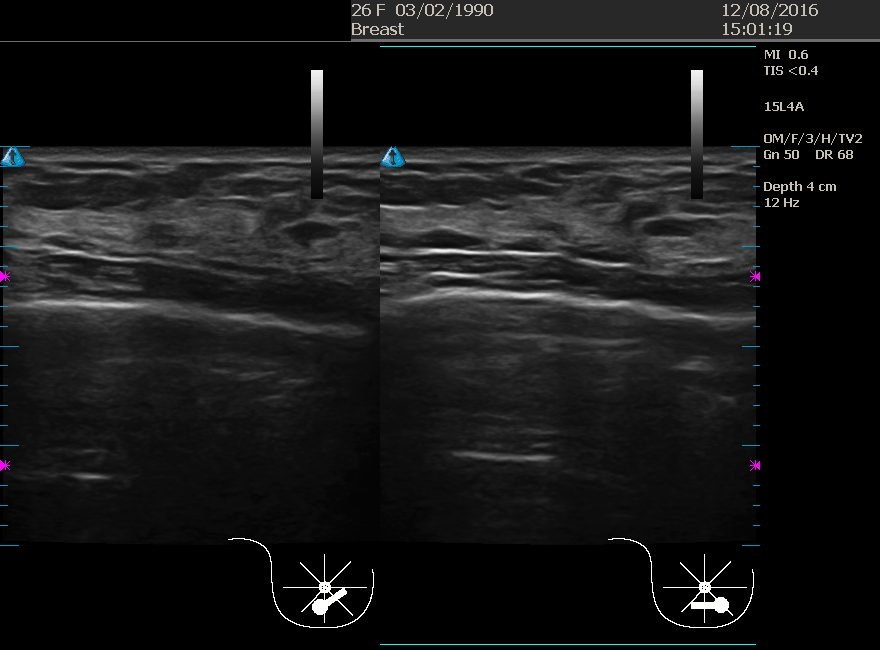BIRADS_2: (164, 206, 364, 406), (539, 205, 739, 405)
